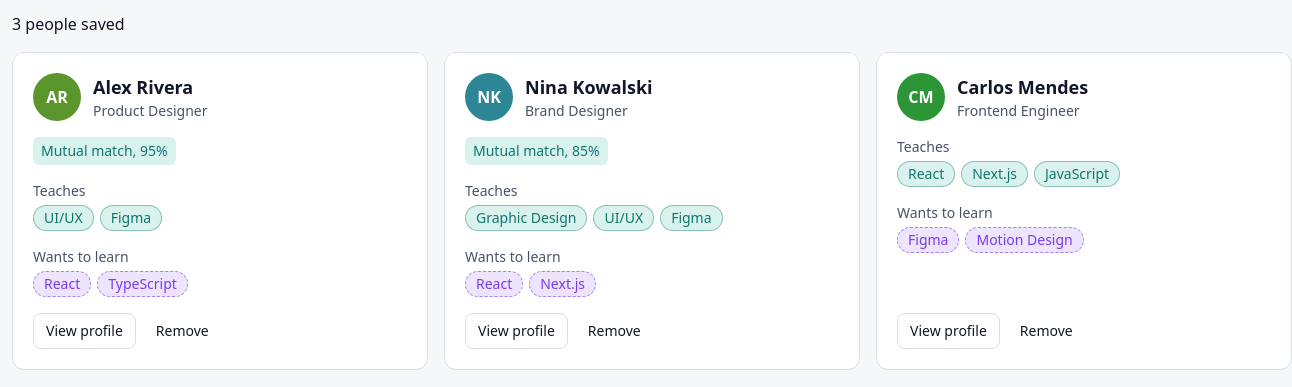
Test: Favorites: removing › removes the card at once and says so
Expected: the element that starts with "Alex Rivera" is shown, [12,52,428,370]
Click the button with aria-label "Remove Alex Rivera from favorites" at (182, 331), box [144,313,221,349]
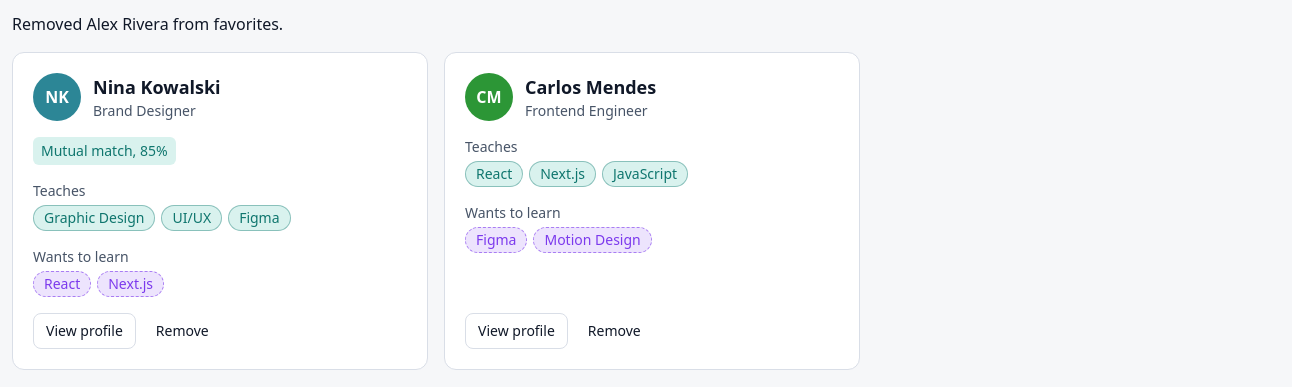
Expected: the text "Removed Alex Rivera from favorites." is shown, [12,13,283,35]
